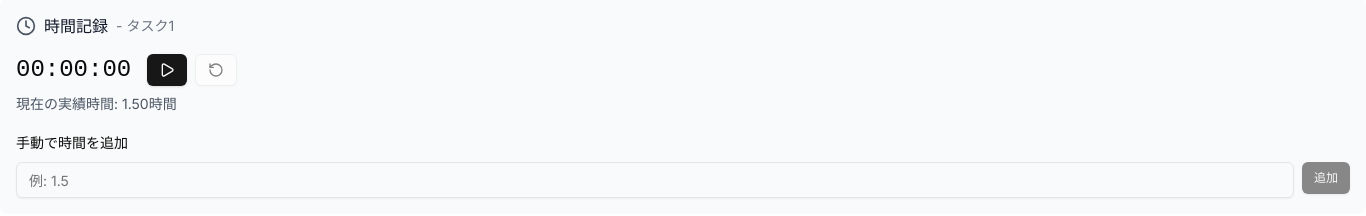
Test: WBSTimeTracker › adds manual time entry
Check: the button "追加" is disabled, box [1302,162,1350,194]
Type "2.25" into the number field with placeholder "例: 1.5" at coordinates (655, 180), box [16,162,1294,198]
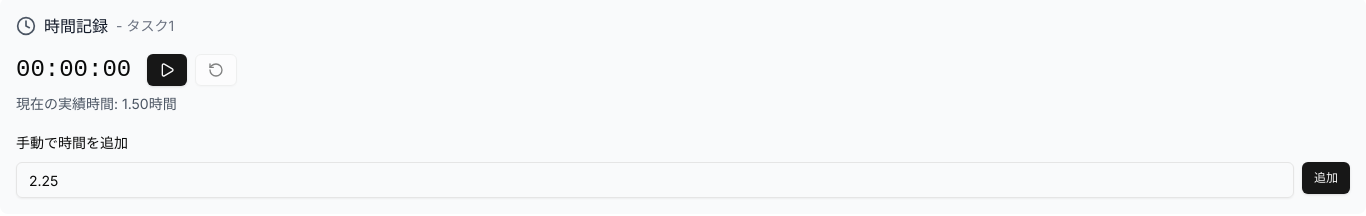
Check: the button "追加" is enabled
Click the button "追加" at coordinates (1326, 178), box [1302,162,1350,194]
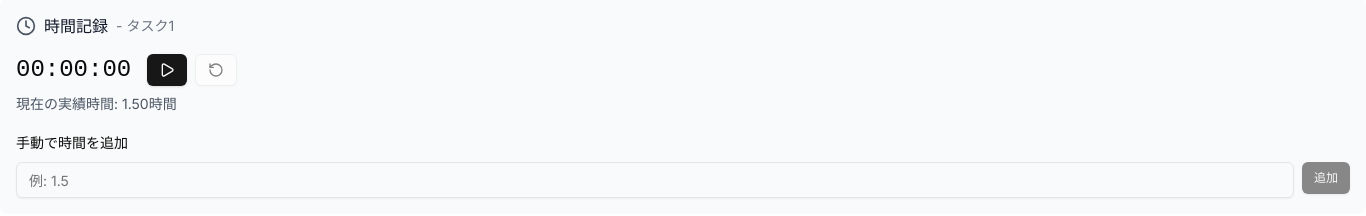
Check: the number field with placeholder "例: 1.5" is not empty, box [16,162,1294,198]
